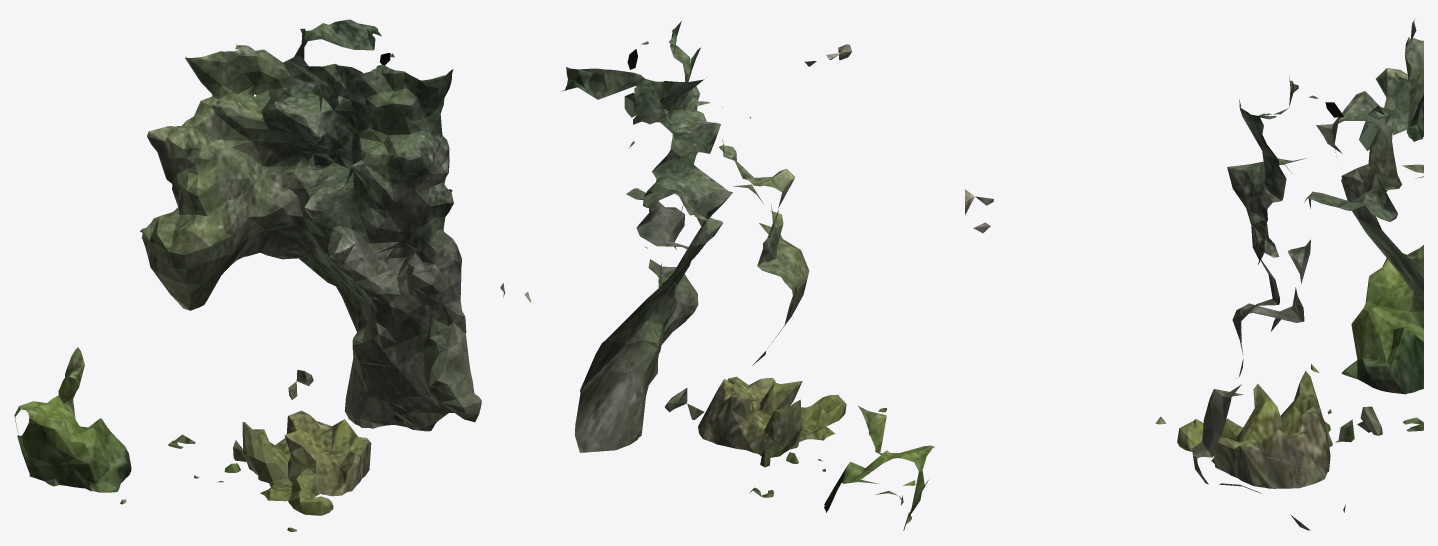
3 views of the same model, side by side, from view 1: azimuth 30°, elevation 25°; view 2: azimuth 150°, elevation 25°; view 3: azimuth 270°, elevation 25° (orthographic). The views are drawn at different scales.
Size of the model in its own units: 11.8 by 11.8 by 11.8.
3 materials, 3 textured.
